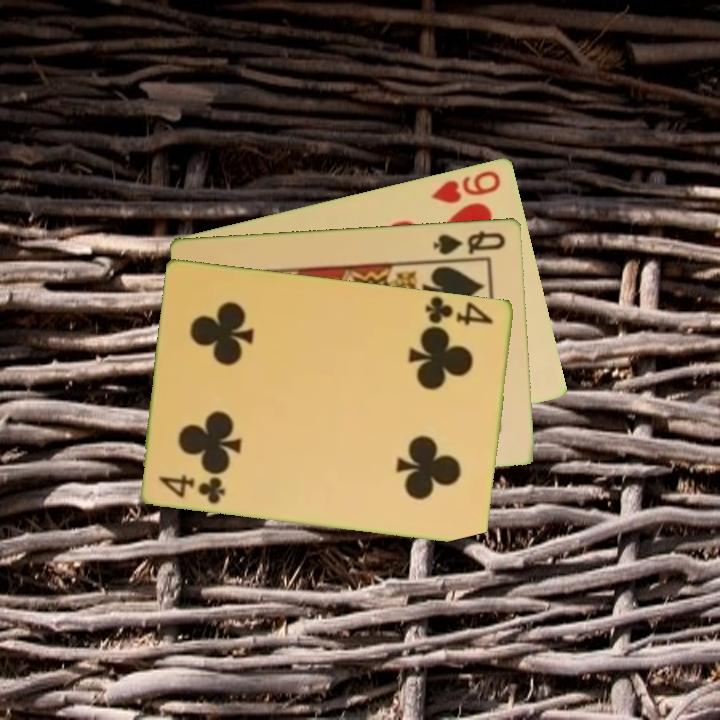4c: (422, 293, 497, 330), (155, 470, 229, 507)
9h: (428, 166, 504, 206)
Qs: (429, 226, 509, 257)
